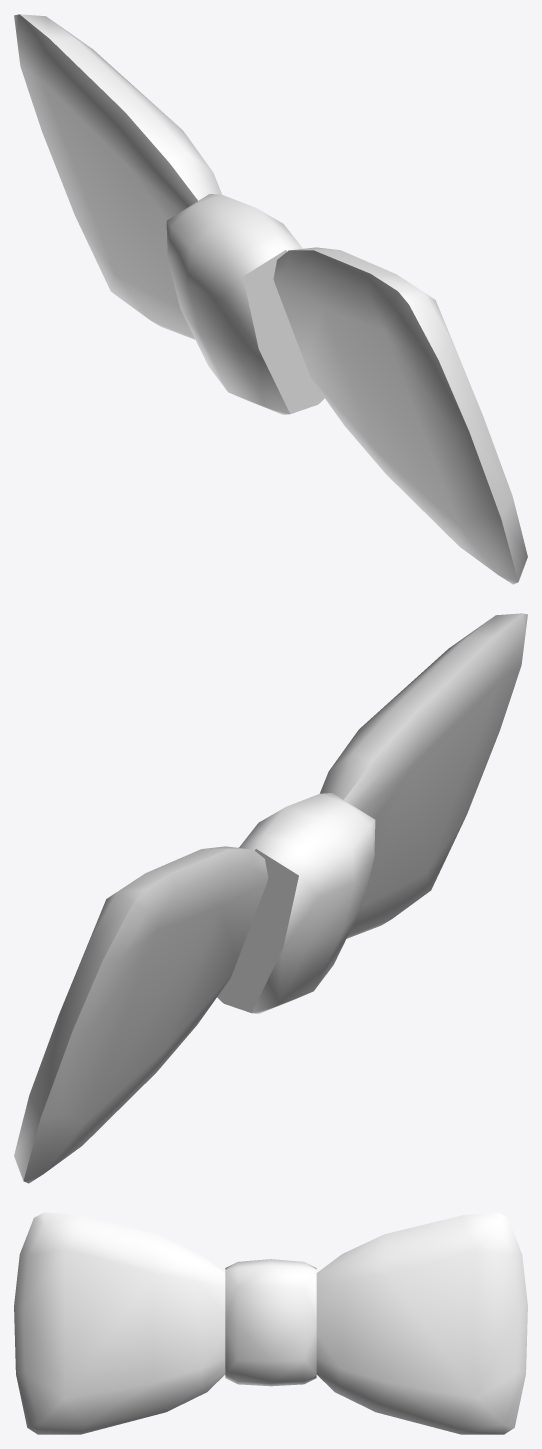
File: hat_5.glb
3 views of the same model, one above another, from view 1: azimuth 30°, elevation 25°; view 2: azimuth 150°, elevation 25°; view 3: azimuth 270°, elevation 25° (orthographic). The views are drawn at different scales.
Visible parts, largest first — view 1: Bow; view 2: Bow; view 3: Bow.
Boxes of the visible parts, <box> form: Bow: <box>14,14,527,584</box>; Bow: <box>14,613,527,1183</box>; Bow: <box>14,1212,527,1434</box>.
Bounding box in the file's own units: 8.61 × 17.29 × 42.39.
Materials: 1 (1 with a texture image).
